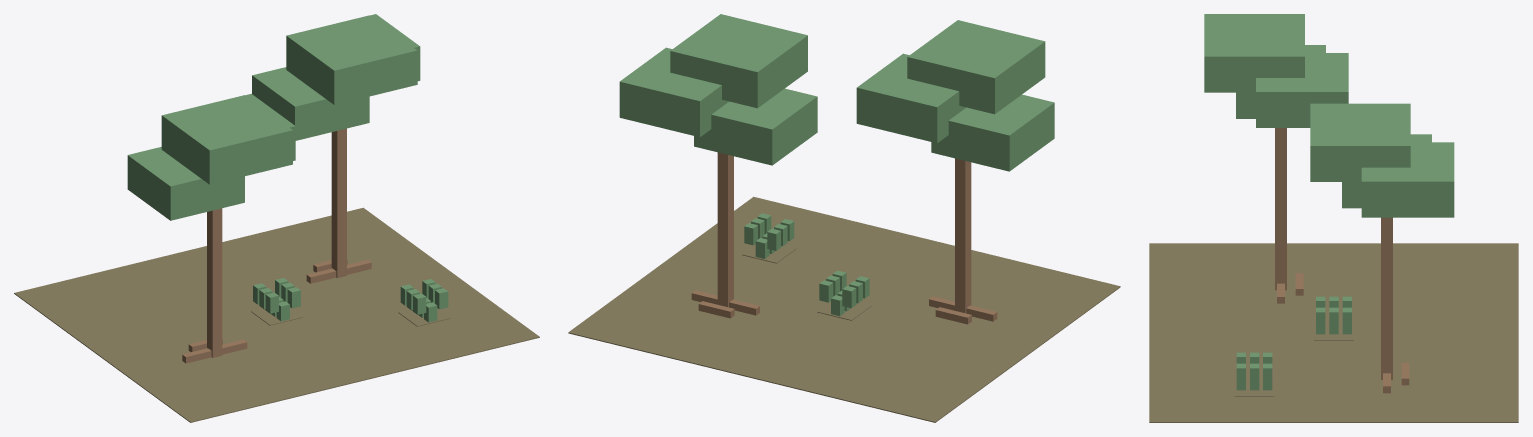
The model's file is plot-humid.glb.
3 renders of one model, left to right at view 1: azimuth 30°, elevation 25°; view 2: azimuth 150°, elevation 25°; view 3: azimuth 270°, elevation 25°, orthographic. The views are drawn at different scales.
Bounding box in the file's own units: 15.96 × 10.57 × 13.96.
